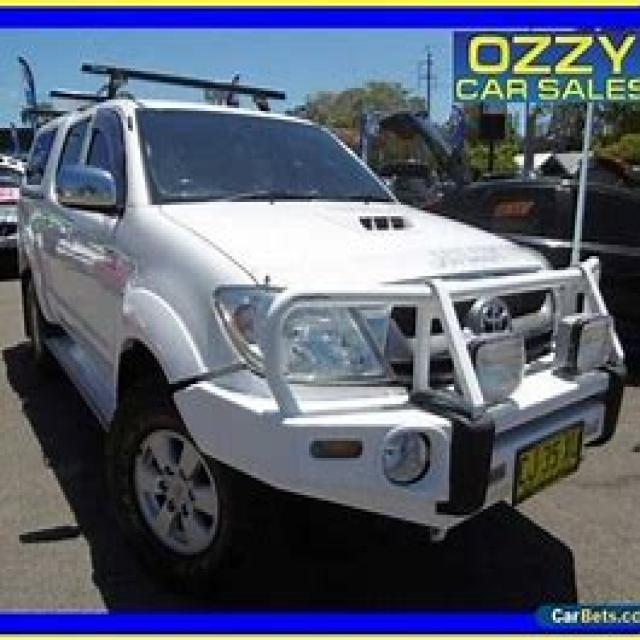light_vehicle: (15, 82, 638, 586)
